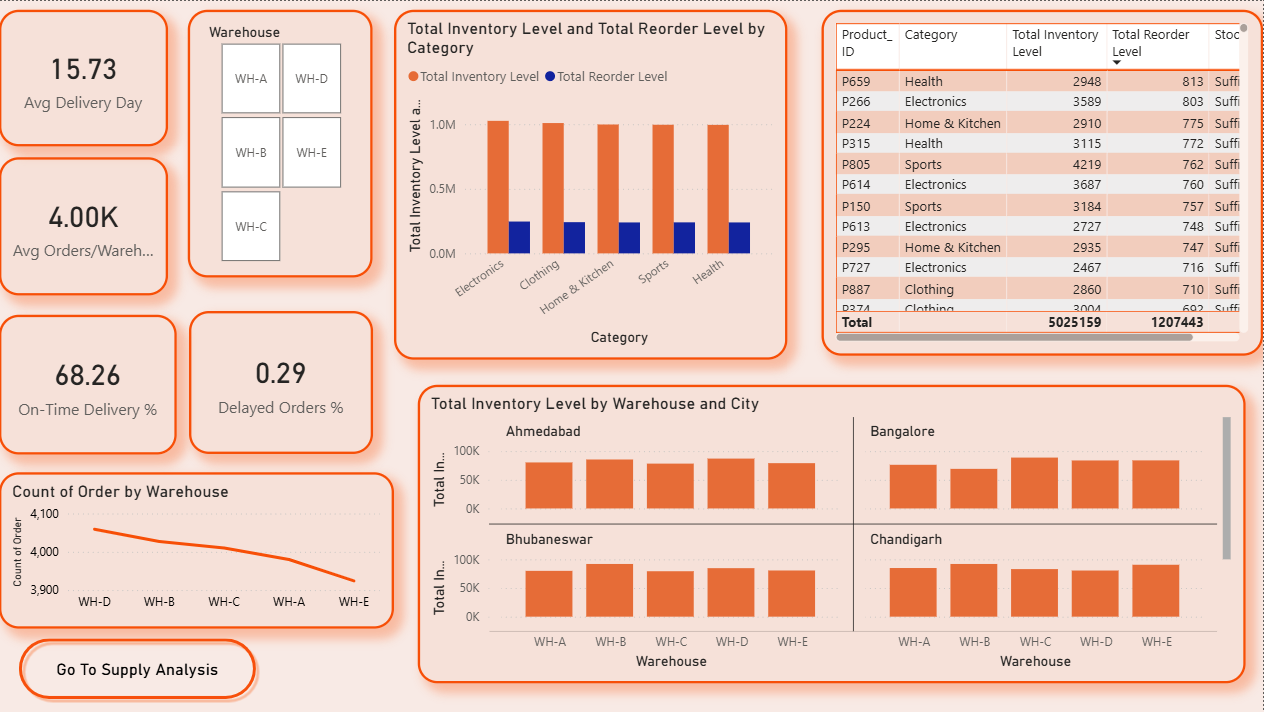

This screenshot's page, from the dashboard's own definition file:
{"tool":"powerbi","page":{"name":"Inventory Analysis","canvas":[1280,720],"ordinal":2},"visuals":[{"type":"slicer","fields":{"Values":["Supply_Chain_Inventory_Data.Warehouse"]},"box":[191.2,8.8,187.5,271.2],"z":0},{"type":"clusteredColumnChart","fields":{"Category":["Supply_Chain_Inventory_Data.Category"],"Y":["Sum(Supply_Chain_Inventory_Data.Inventory_Level)","Sum(Supply_Chain_Inventory_Data.Reorder_Level)"]},"box":[400,8.9,398.7,354.4],"z":1000},{"type":"card","fields":{"Values":["Supply_Chain_Inventory_Data.Avg Delivery Day"]},"box":[0,8.8,171.2,138.8],"z":2000},{"type":"tableEx","fields":{"Values":["Supply_Chain_Inventory_Data.Product_ID","Supply_Chain_Inventory_Data.Category","Sum(Supply_Chain_Inventory_Data.Inventory_Level)","Sum(Supply_Chain_Inventory_Data.Reorder_Level)","Supply_Chain_Inventory_Data.Stock Status"]},"box":[832.9,8.9,446.8,350.6],"z":3000},{"type":"lineChart","fields":{"Category":["Supply_Chain_Inventory_Data.Warehouse"],"Y":["CountNonNull(Supply_Chain_Inventory_Data.Order_ID)"]},"box":[0,477.5,400,158.8],"z":4000},{"type":"actionButton","box":[15,640,250,71.2],"z":5000},{"type":"card","fields":{"Values":["Supply_Chain_Inventory_Data.On-Time Delivery %"]},"box":[0,317.5,180,141.2],"z":6000},{"type":"card","fields":{"Values":["Supply_Chain_Inventory_Data.Delayed Orders %"]},"box":[192.5,313.8,186.2,145],"z":7000},{"type":"clusteredColumnChart","fields":{"Y":["Sum(Supply_Chain_Inventory_Data.Inventory_Level)"],"Rows":["Supply_Chain_Inventory_Data.City"],"Category":["Supply_Chain_Inventory_Data.Warehouse"]},"box":[423.8,388.8,838.8,302.5],"z":8000},{"type":"card","fields":{"Values":["Supply_Chain_Inventory_Data.Avg Orders per Warehouse"]},"box":[0,158.8,171.2,140],"z":9000}]}

Visuals, with their boxes in screenshot pixels (x1, y1, x2, y2), scaled from the page's 1280x720 canvas onto the 1264x712 screenshot:
slicer - Supply_Chain_Inventory_Data.Warehouse: (x1=189, y1=9, x2=374, y2=277)
clusteredColumnChart - Supply_Chain_Inventory_Data.Category x Sum(Supply_Chain_Inventory_Data.Inventory_Level): (x1=395, y1=9, x2=789, y2=359)
card - Supply_Chain_Inventory_Data.Avg Delivery Day: (x1=0, y1=9, x2=169, y2=146)
tableEx - Supply_Chain_Inventory_Data.Product_ID x Supply_Chain_Inventory_Data.Category: (x1=822, y1=9, x2=1263, y2=356)
lineChart - Supply_Chain_Inventory_Data.Warehouse x CountNonNull(Supply_Chain_Inventory_Data.Order_ID): (x1=0, y1=472, x2=395, y2=629)
actionButton: (x1=15, y1=633, x2=262, y2=703)
card - Supply_Chain_Inventory_Data.On-Time Delivery %: (x1=0, y1=314, x2=178, y2=454)
card - Supply_Chain_Inventory_Data.Delayed Orders %: (x1=190, y1=310, x2=374, y2=454)
clusteredColumnChart - Sum(Supply_Chain_Inventory_Data.Inventory_Level) x Supply_Chain_Inventory_Data.City: (x1=419, y1=384, x2=1247, y2=684)
card - Supply_Chain_Inventory_Data.Avg Orders per Warehouse: (x1=0, y1=157, x2=169, y2=295)
